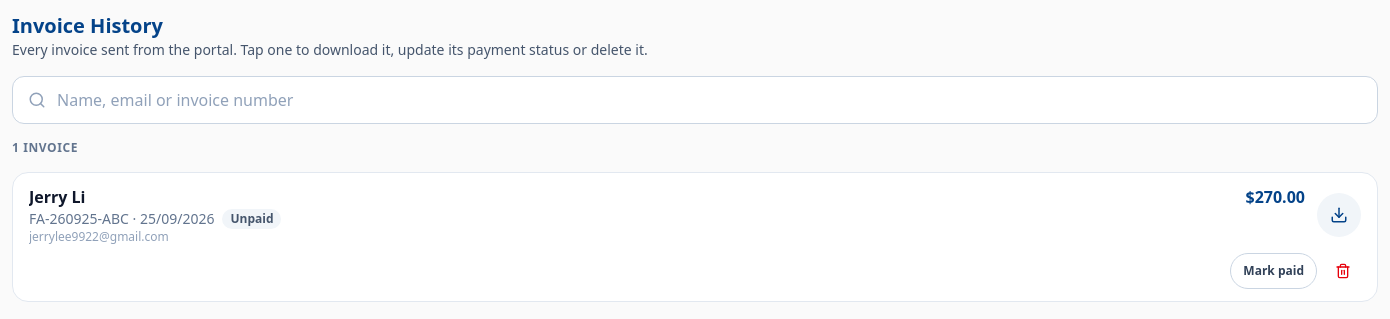
it: InvoiceHistory › marks an invoice as paid
Click the button with aria-label "Mark FA-260925-ABC as paid" at (1274, 271), box [1230, 253, 1317, 289]
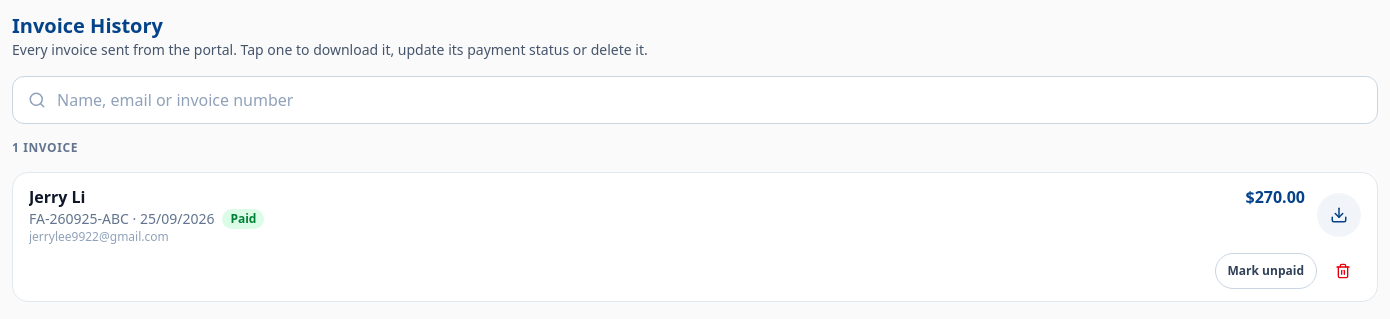
Expected: the text "Paid" is shown, [222, 209, 264, 229]
Now the button with aria-label "Mark FA-260925-ABC as unpaid" is shown, box [1214, 253, 1317, 289]
